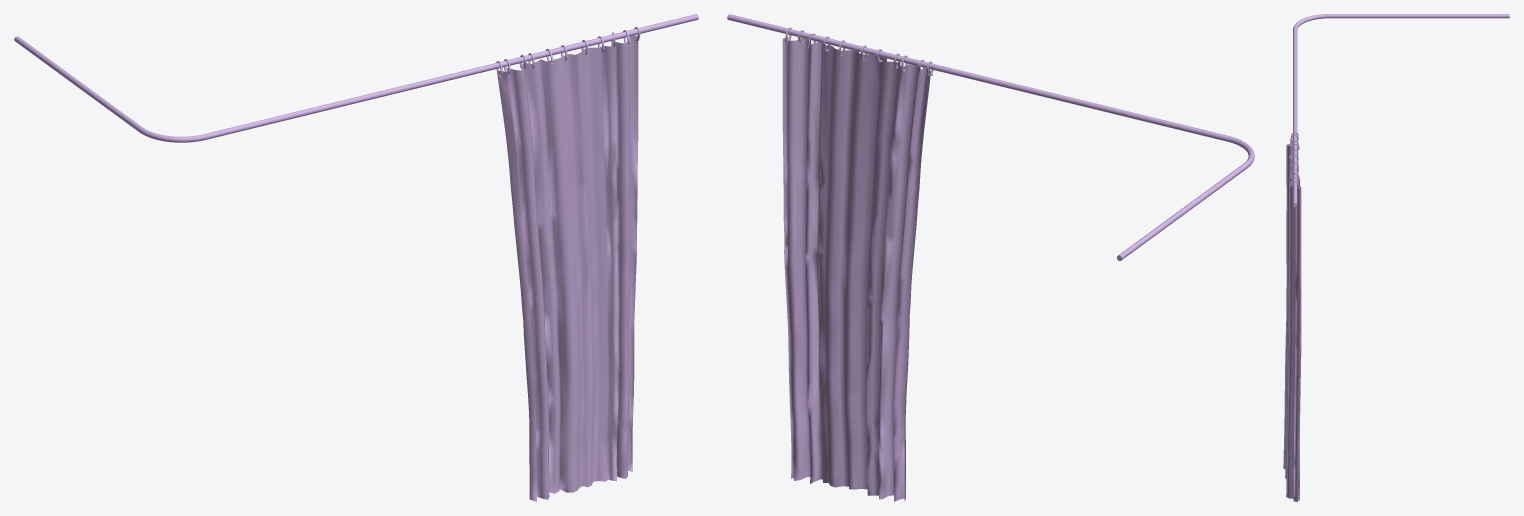
The model's file is zanaveska.fbx.
The picture shows the model from 3 angles, left to right: view 1: azimuth 30°, elevation 25°; view 2: azimuth 150°, elevation 25°; view 3: azimuth 270°, elevation 25°; orthographic projection. The views are drawn at different scales.
Parts seen in each view (by area): view 1: Шторка_для_ванной_Ванна, Шторка_для_ванной_Ванна.001; view 2: Шторка_для_ванной_Ванна, Шторка_для_ванной_Ванна.001; view 3: Шторка_для_ванной_Ванна, Шторка_для_ванной_Ванна.001.
Boxes of the visible parts, box(x1,y1,x2,y2) form: Шторка_для_ванной_Ванна: box(496, 27, 640, 501); Шторка_для_ванной_Ванна.001: box(14, 14, 698, 142); Шторка_для_ванной_Ванна: box(782, 27, 933, 501); Шторка_для_ванной_Ванна.001: box(727, 14, 1254, 260); Шторка_для_ванной_Ванна: box(1283, 132, 1301, 501); Шторка_для_ванной_Ванна.001: box(1293, 14, 1509, 207).
Size of the model in its own units: 220 by 174 by 111.
